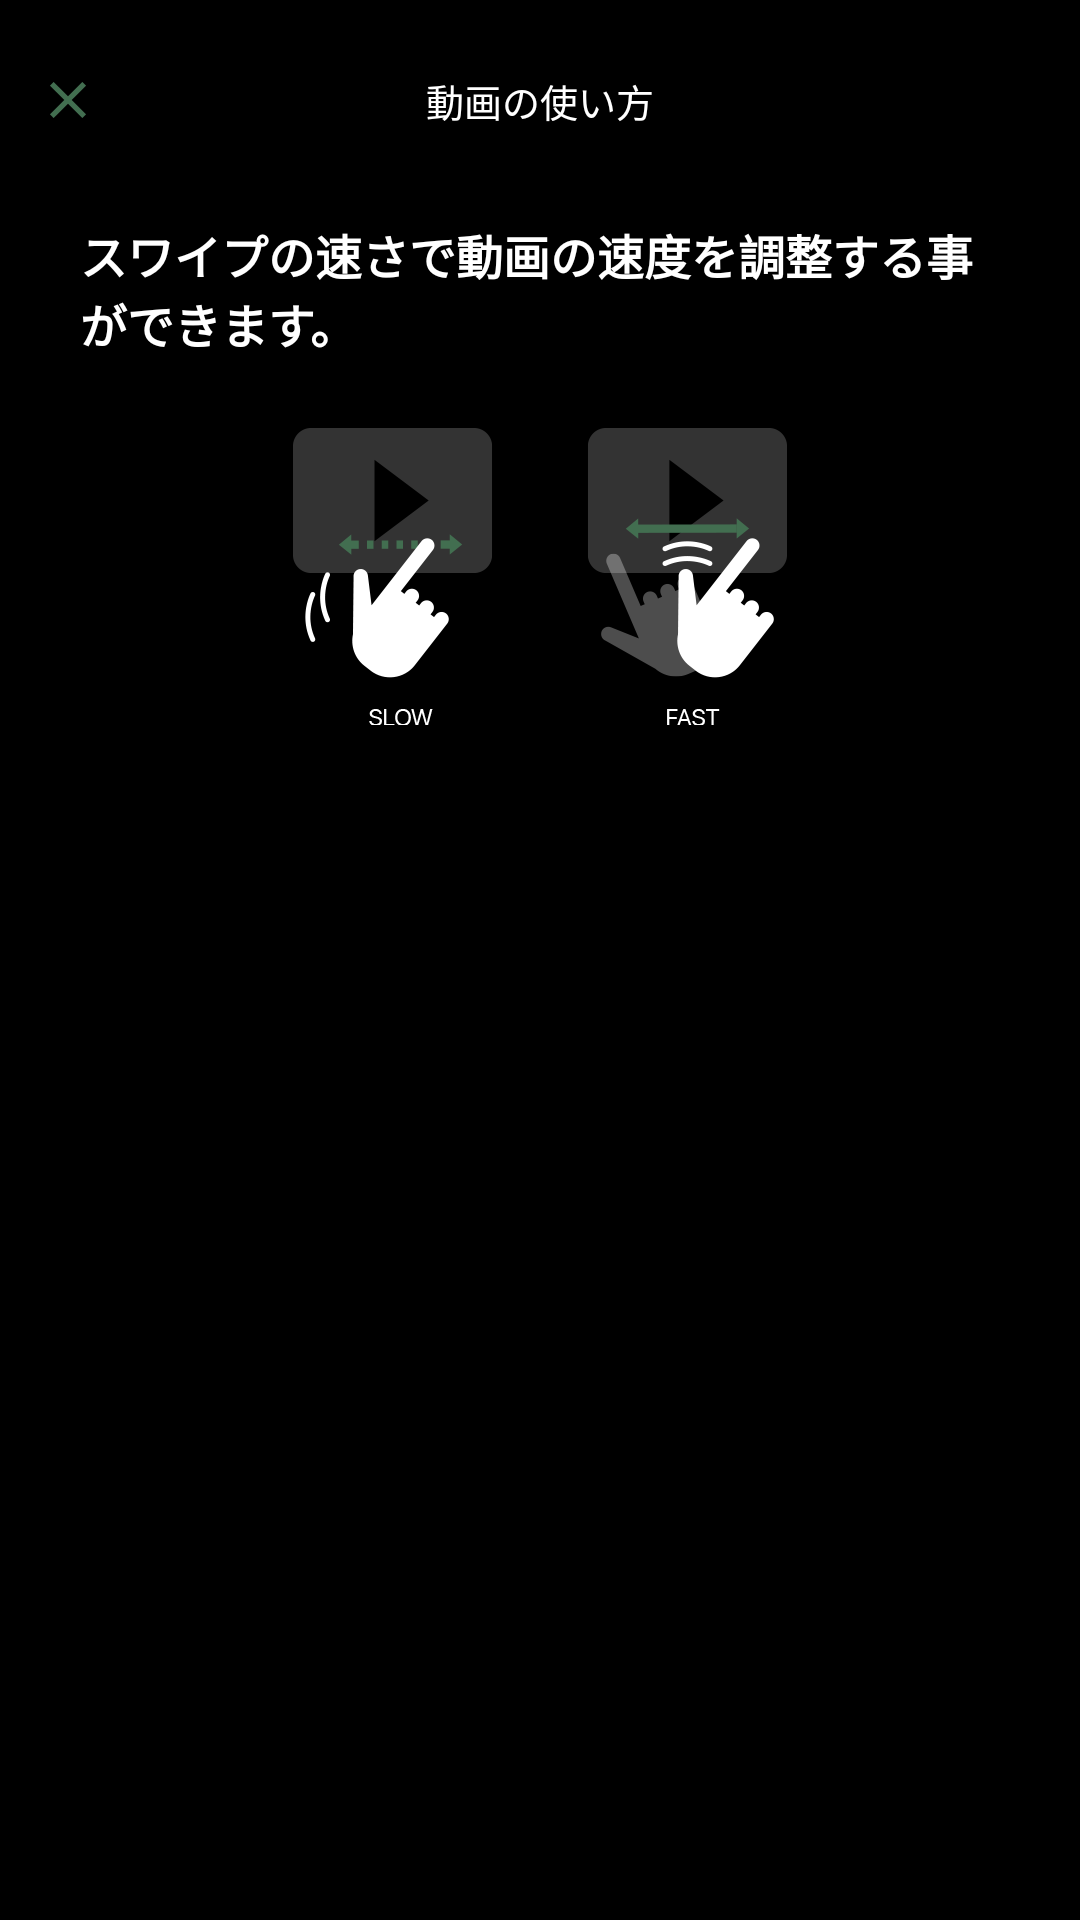

Point at icon controls on the screen. Image size 1080px×1920px, points as (x,y).
close gr: (68,100)
